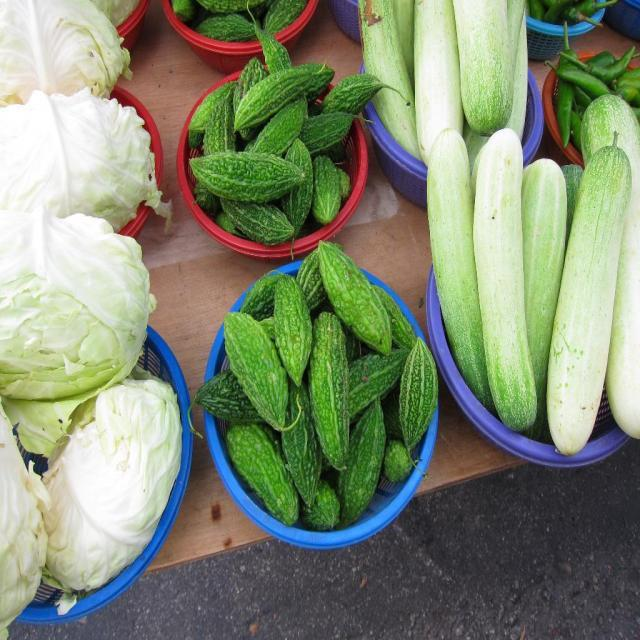Zucchini: (542, 125, 640, 466), (423, 127, 493, 421), (473, 135, 539, 435), (514, 157, 570, 408), (351, 0, 423, 164), (412, 0, 468, 176), (449, 0, 510, 142)
